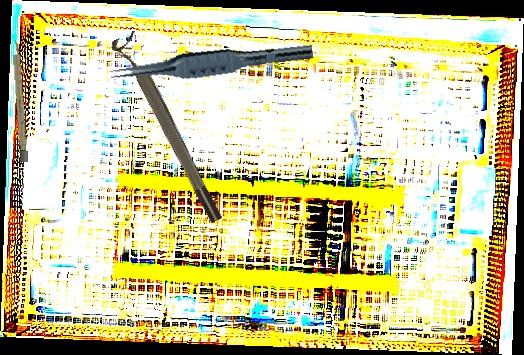Fixation Ring: (109, 30, 226, 229)
Scalpel Handle: (11, 39, 29, 163)
Tissue Forceps: (109, 32, 314, 92)
